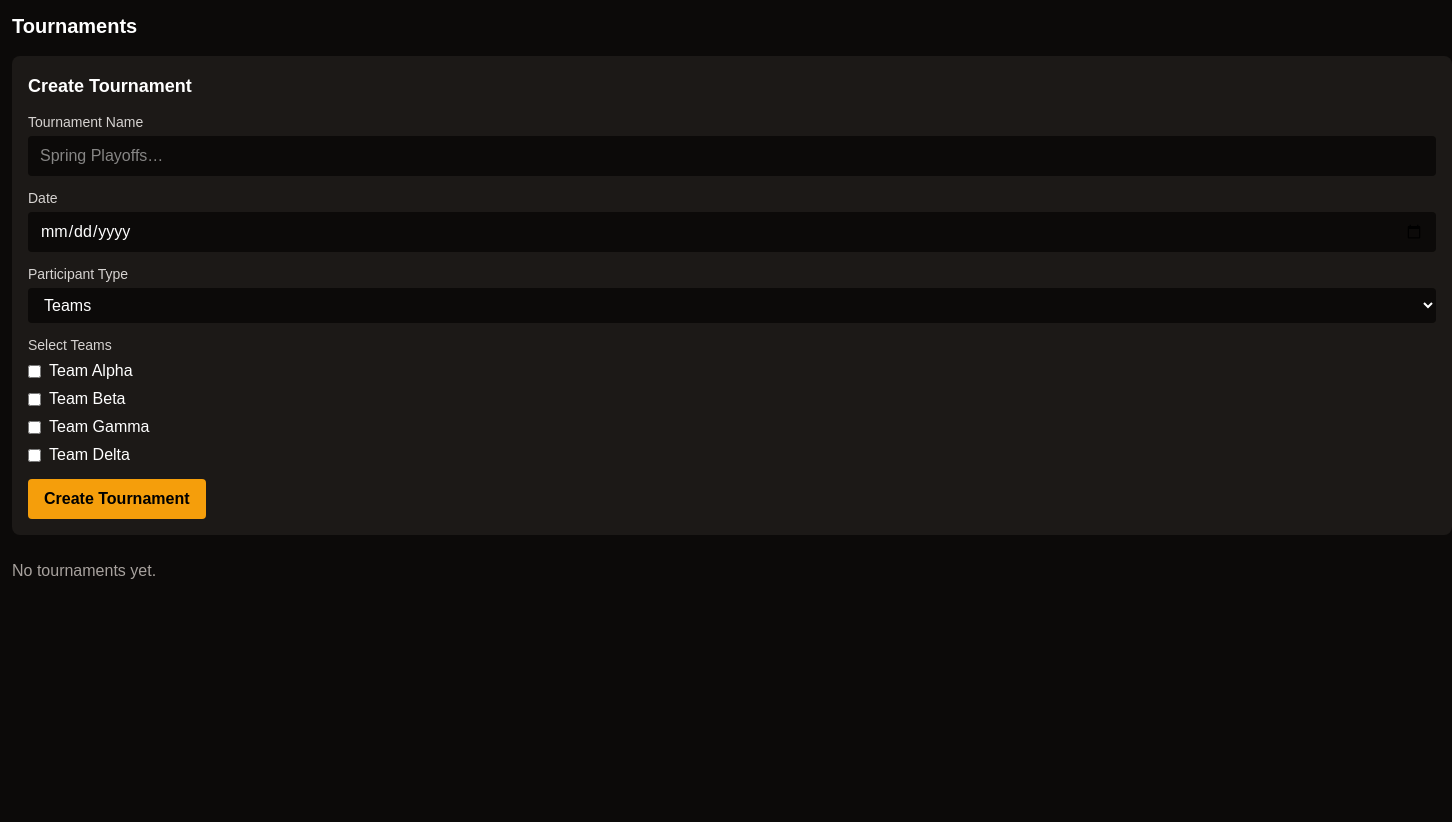
it: TournamentPage › validates required fields
This screenshot has width=1452, height=822.
Click the button "Create Tournament" at (117, 499), box [28,479,206,519]
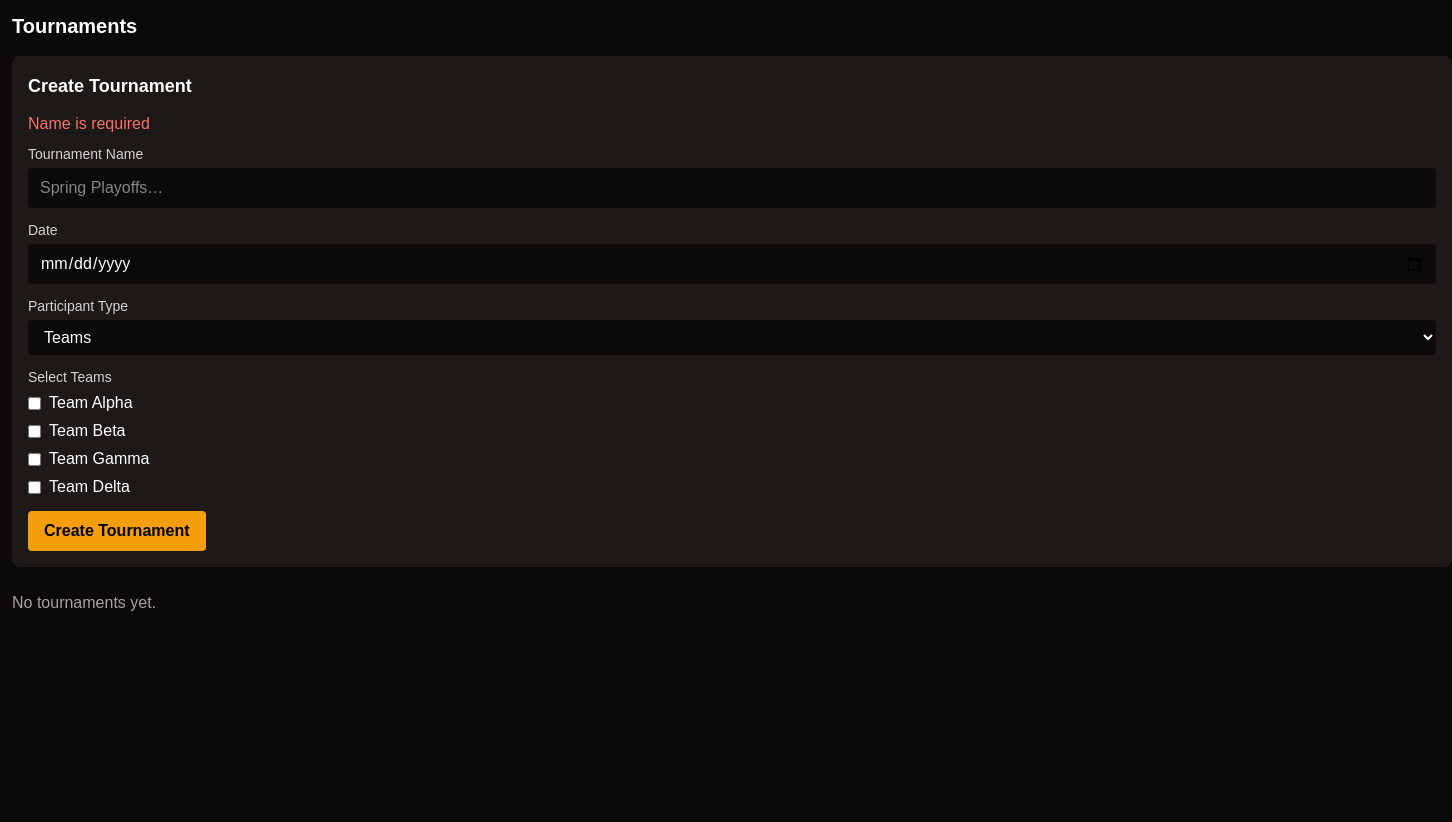
Check: the text "Name is required" is shown, box [28,115,150,132]
